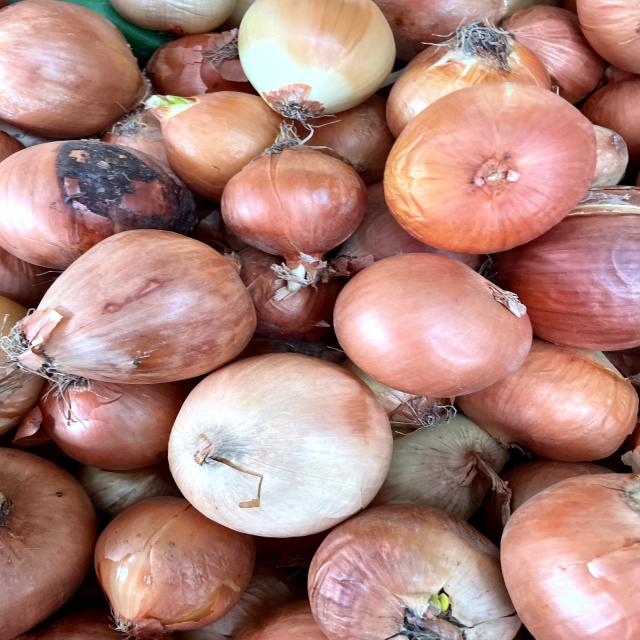onion: (163, 344, 408, 544), (0, 221, 272, 385), (373, 77, 604, 256), (321, 246, 556, 406), (215, 131, 372, 284), (224, 0, 409, 121)
